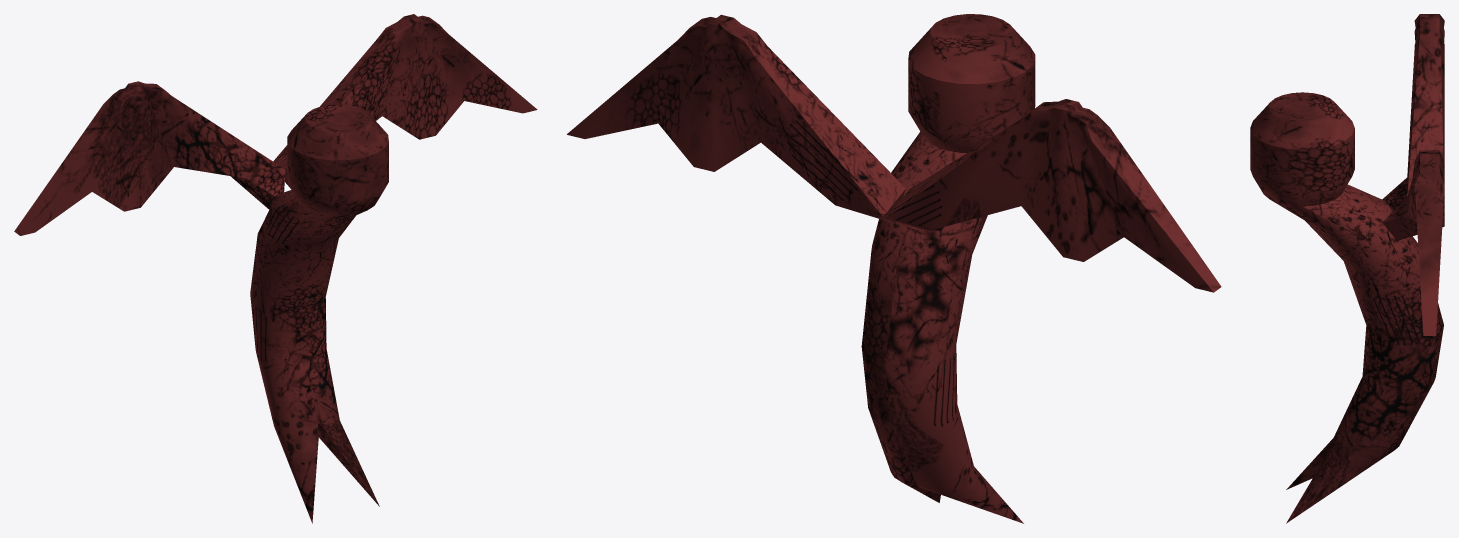
File: FlyingEyeDymmy_20230911.fbx
3 views of the same model, side by side, from view 1: azimuth 30°, elevation 25°; view 2: azimuth 150°, elevation 25°; view 3: azimuth 270°, elevation 25° (orthographic). The views are drawn at different scales.
Parts seen in each view (by area): view 1: FlyingEyeDummy; view 2: FlyingEyeDummy; view 3: FlyingEyeDummy.
Part boxes in pixels (left/top/right/bottom): FlyingEyeDummy: left=14, top=14, right=537, bottom=523; FlyingEyeDummy: left=567, top=14, right=1221, bottom=523; FlyingEyeDummy: left=1250, top=14, right=1444, bottom=523.
Bounding box in the file's own units: 6.91 × 5.25 × 2.2.
